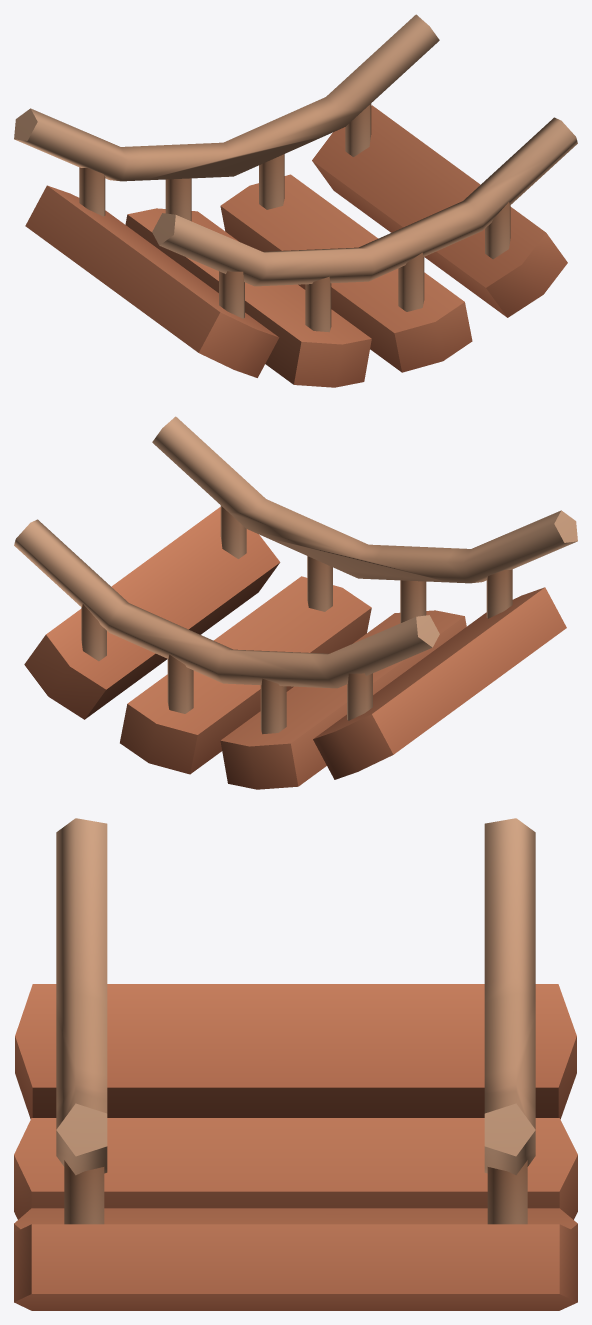
Rendered from bridge.glb.
The picture shows the model from 3 angles, top to bottom: view 1: azimuth 30°, elevation 25°; view 2: azimuth 150°, elevation 25°; view 3: azimuth 270°, elevation 25°; orthographic projection. The views are drawn at different scales.
Visible parts, largest first — view 1: bridge; view 2: bridge; view 3: bridge.
Boxes of the visible parts, x1=… form: bridge: x1=14, y1=14, x2=577, y2=387; bridge: x1=14, y1=416, x2=577, y2=789; bridge: x1=14, y1=818, x2=577, y2=1310.
Size of the model in its own units: 1.04 by 0.4729 by 0.8011.
